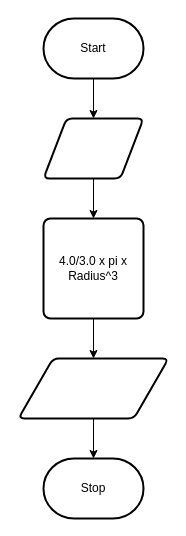
This 186x536 diagram has some shape labels left out. Here are the shapes that lost their labels. From the top down, the centre of each, then its label:
At (x=93, y=148): "Radius".
At (x=93, y=388): "Volume of Sphere".
